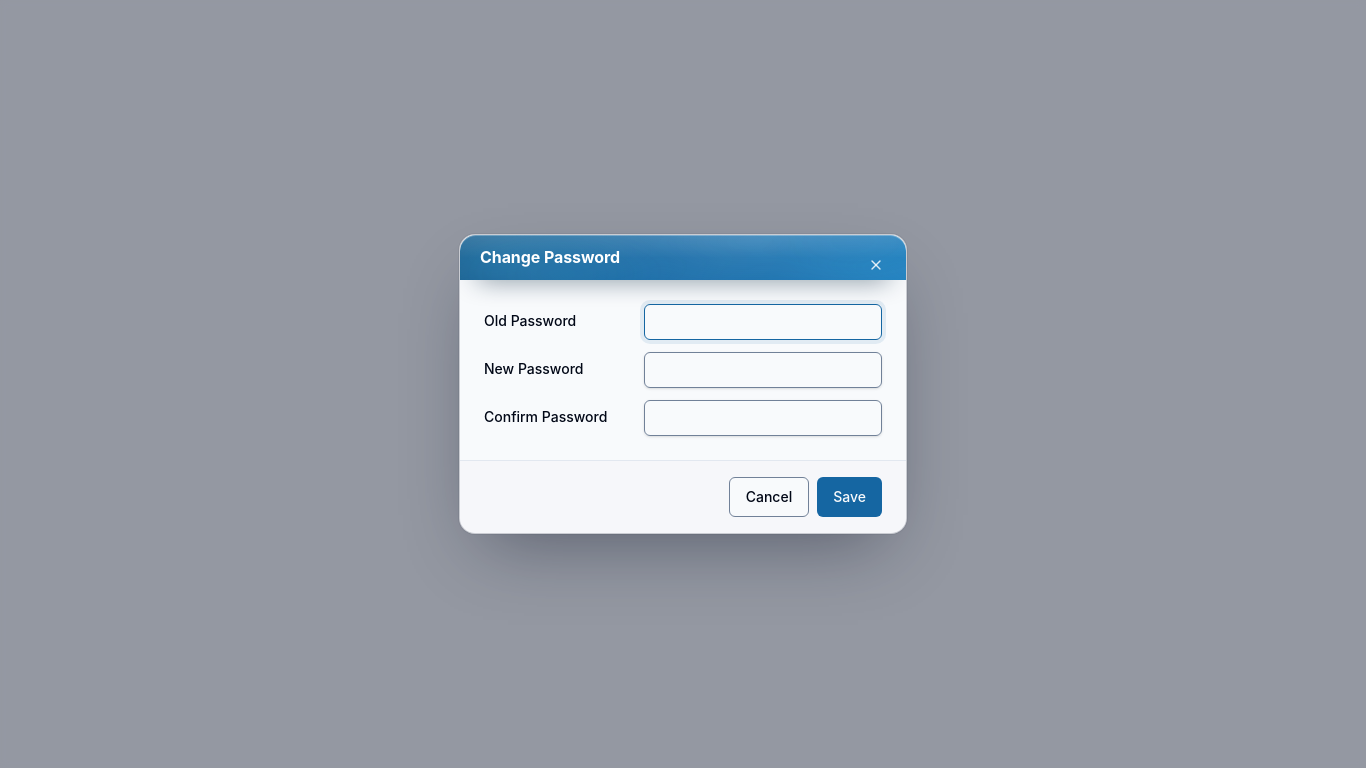
Test case: ChangePasswordDialog › clears errors as the user types and flags both boxes on a mismatch
Click the button "Save" at (850, 497), box x1=817 y1=477 x2=882 y2=517
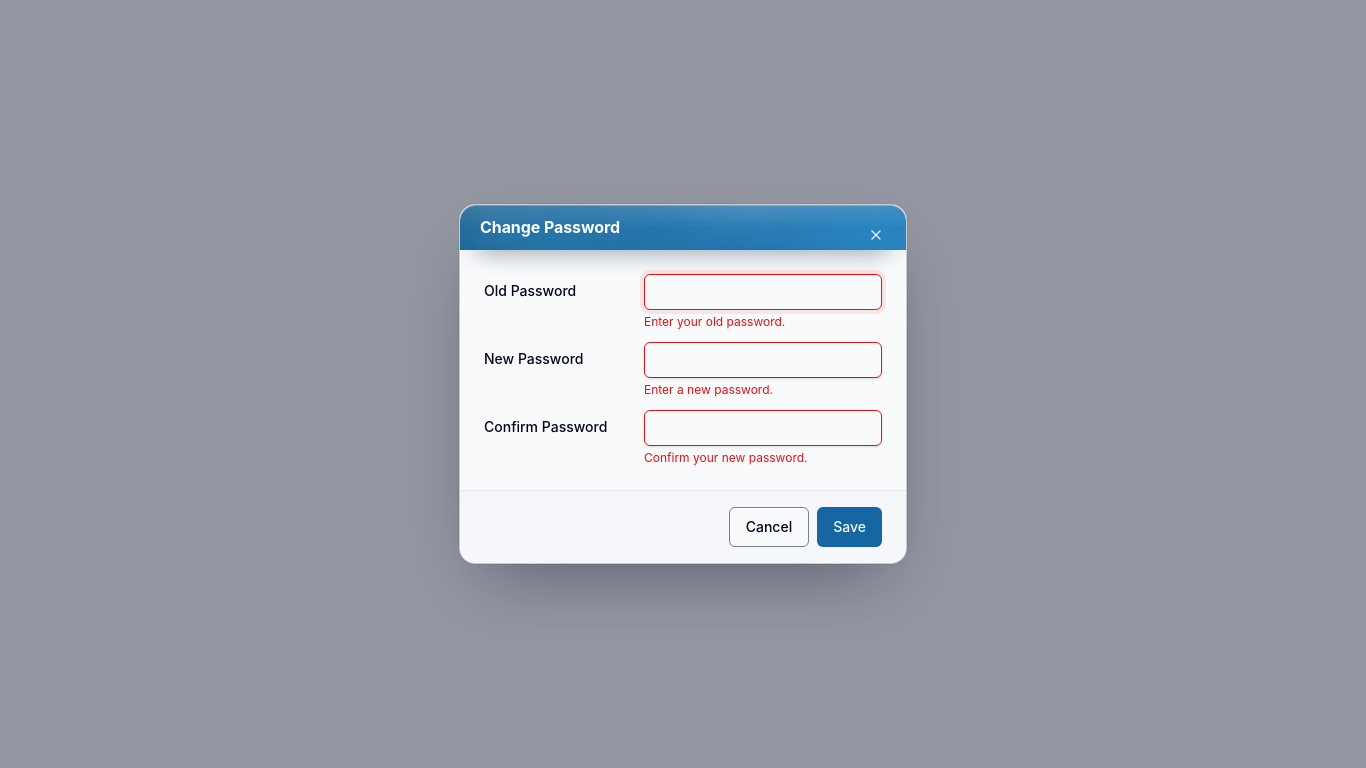
Type "Old-Pass-123" into the password field labelled "Old Password" at (763, 292), box x1=644 y1=274 x2=882 y2=310
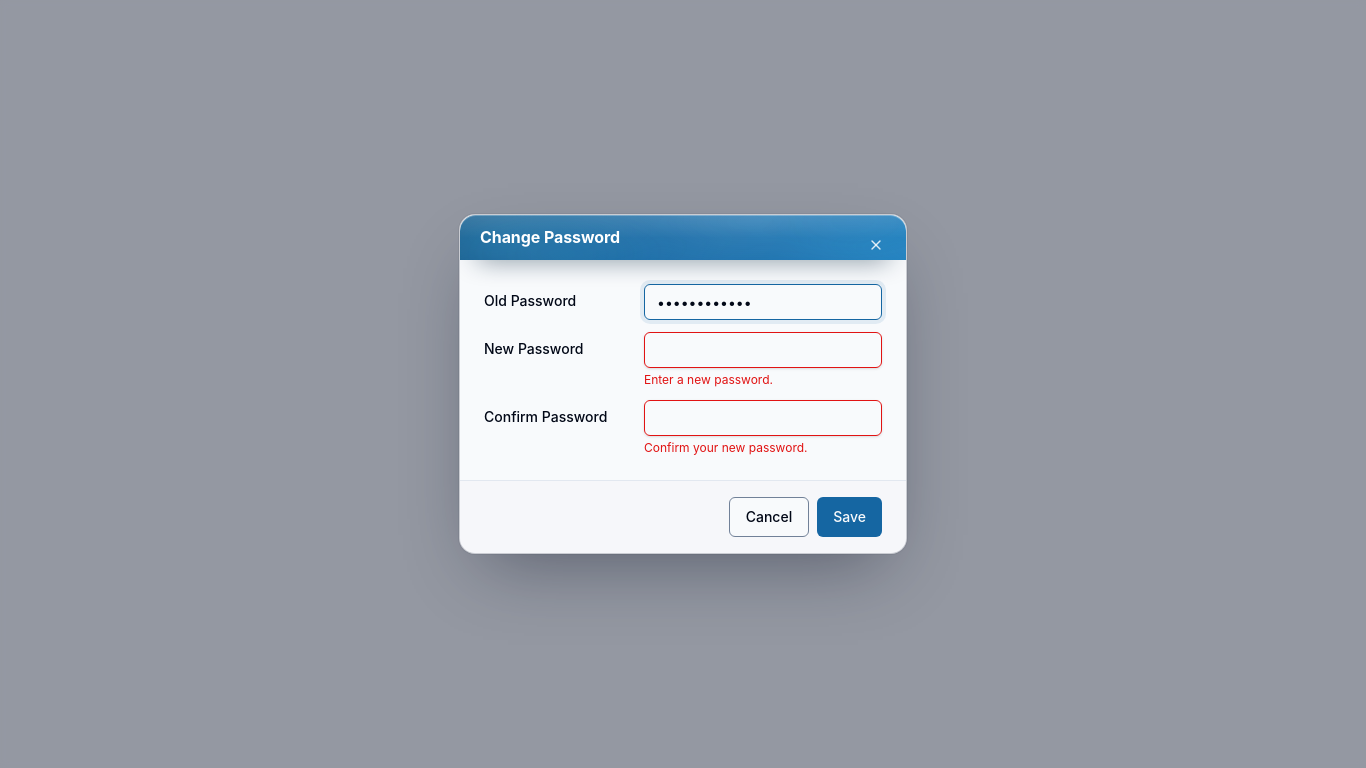
Result: the text "Enter your old password." is gone
Type "Strong-Pass-123" into the password field labelled "New Password" at (763, 350), box x1=644 y1=332 x2=882 y2=368
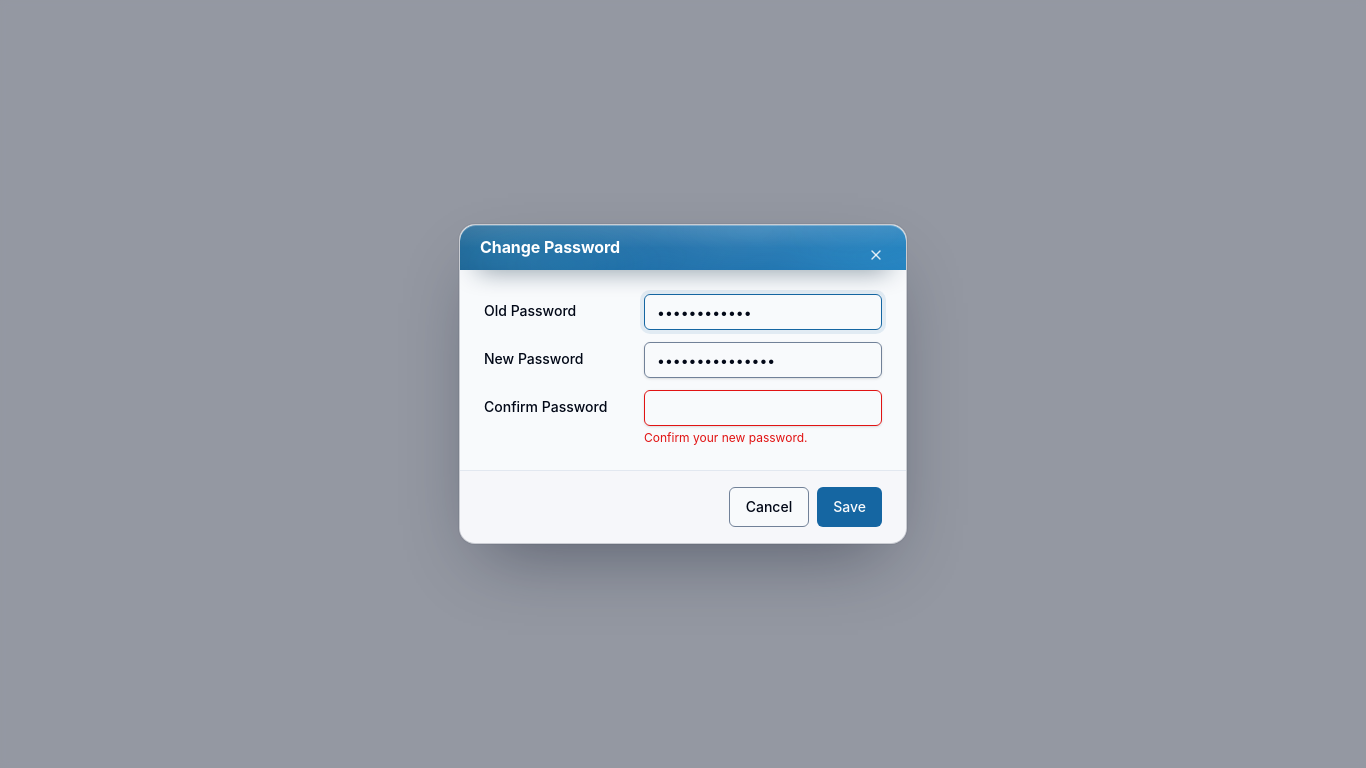
Type "Strong-Pass-12" into the password field labelled "Confirm Password" at (763, 408), box x1=644 y1=390 x2=882 y2=426
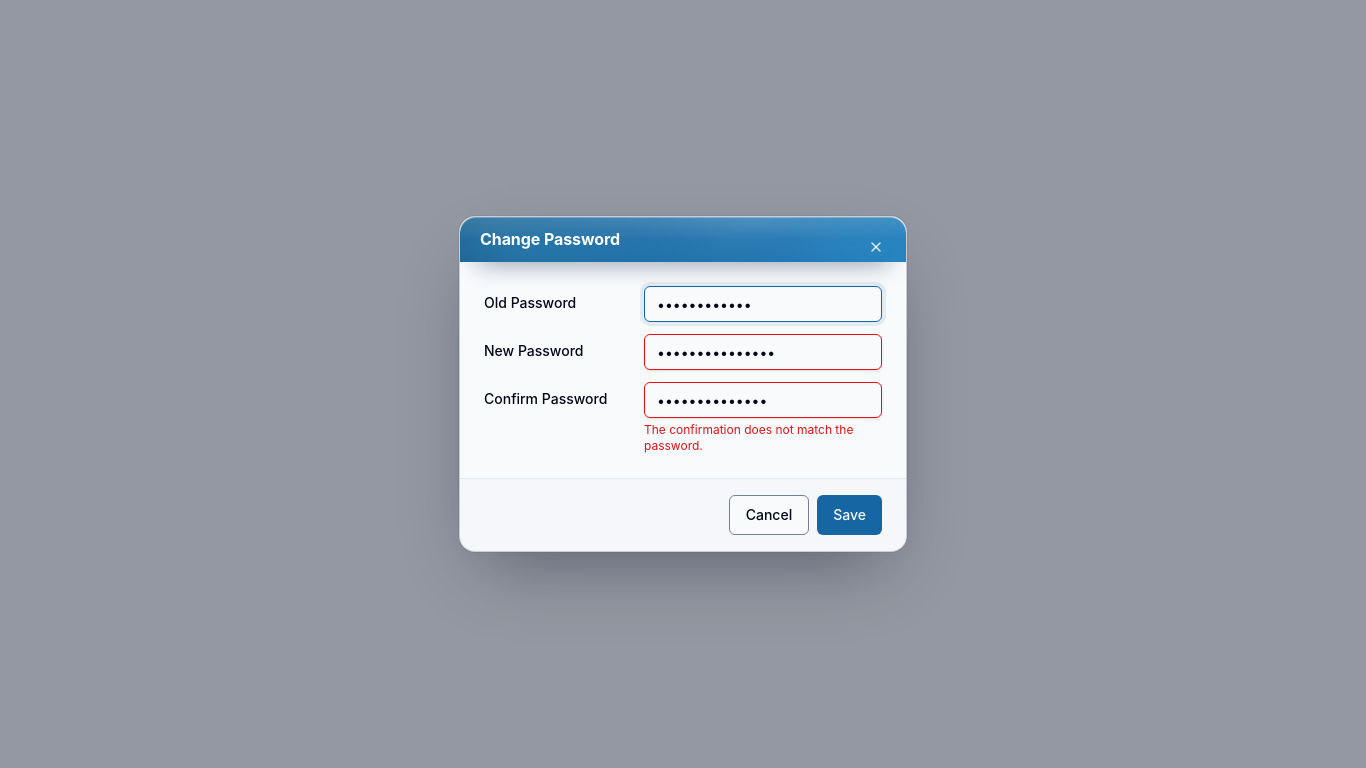
Result: the text "The confirmation does not match the password." is shown at x1=644 y1=422 x2=882 y2=454
Type "Strong-Pass-123" into the password field labelled "Confirm Password" at (763, 400), box x1=644 y1=382 x2=882 y2=418
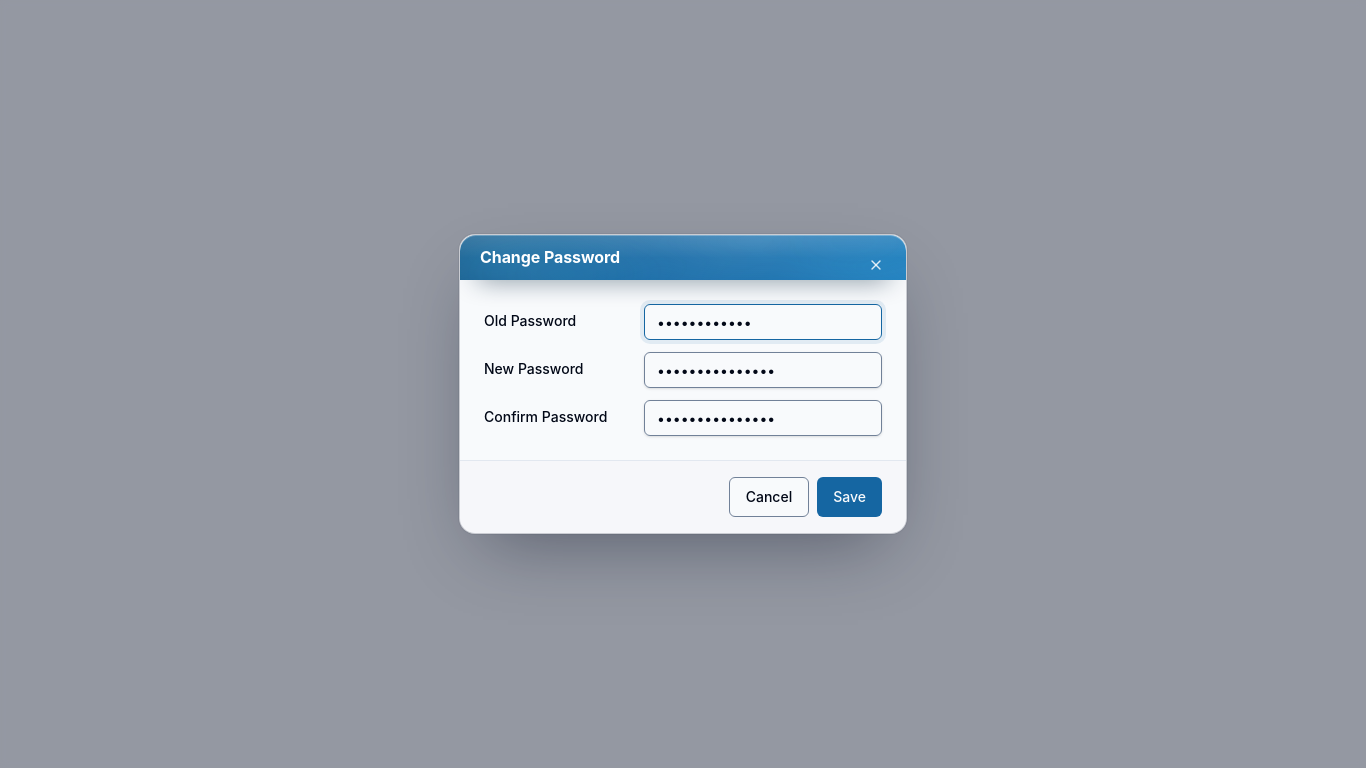
Result: the text "The confirmation does not match the password." is gone
